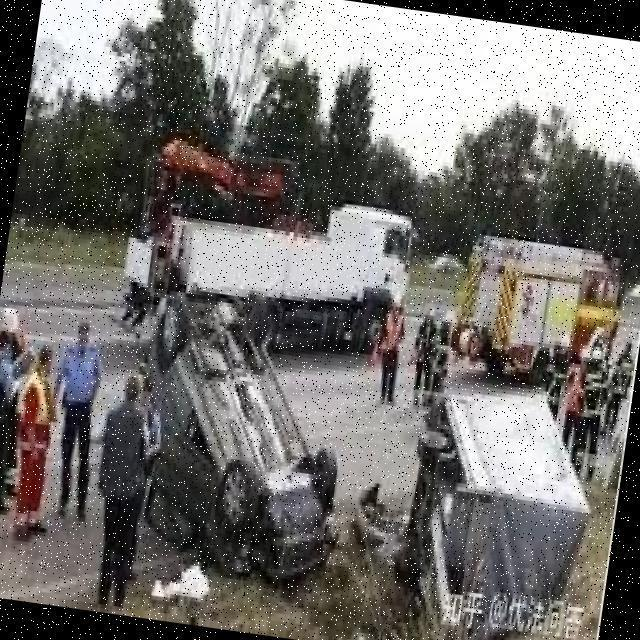accident: (91, 282, 365, 615), (390, 345, 612, 640)
